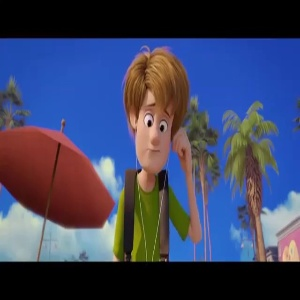Shagy: (118, 45, 201, 177)
